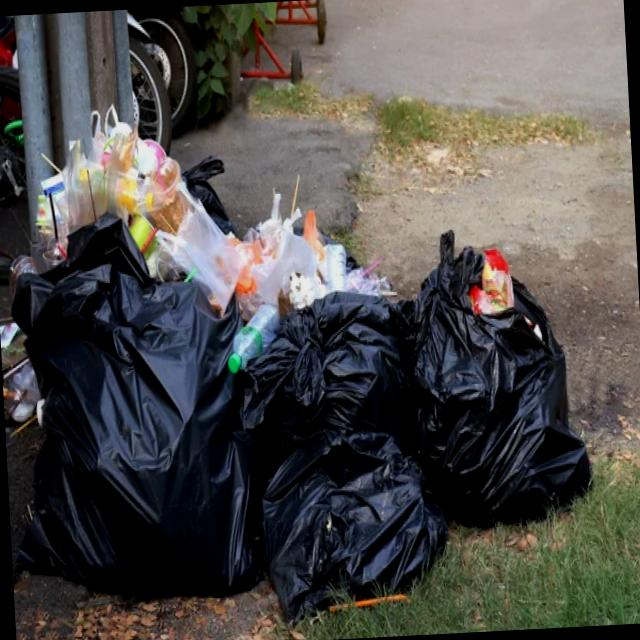garbage: (31, 51, 578, 609)
